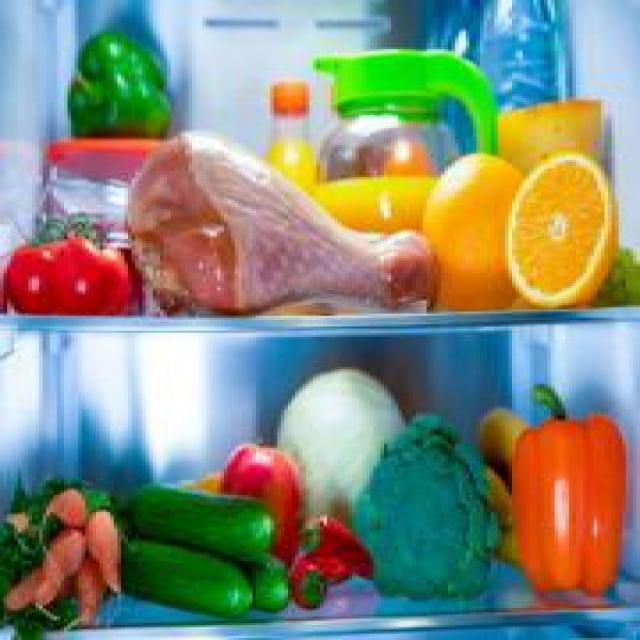bell_pepper: (505, 372, 633, 607), (60, 22, 182, 140)
broccoli: (343, 406, 507, 616)
carrot: (84, 482, 122, 604)
cucumber: (114, 469, 281, 570), (115, 517, 258, 624)
tomato: (51, 213, 137, 318), (1, 221, 58, 317)
